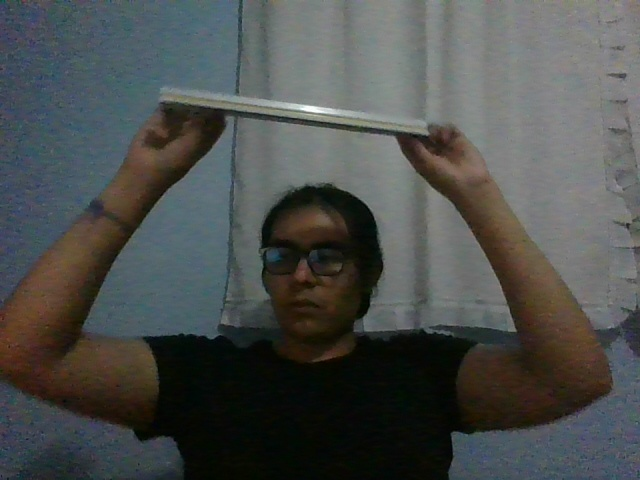regla: (158, 86, 428, 138)
